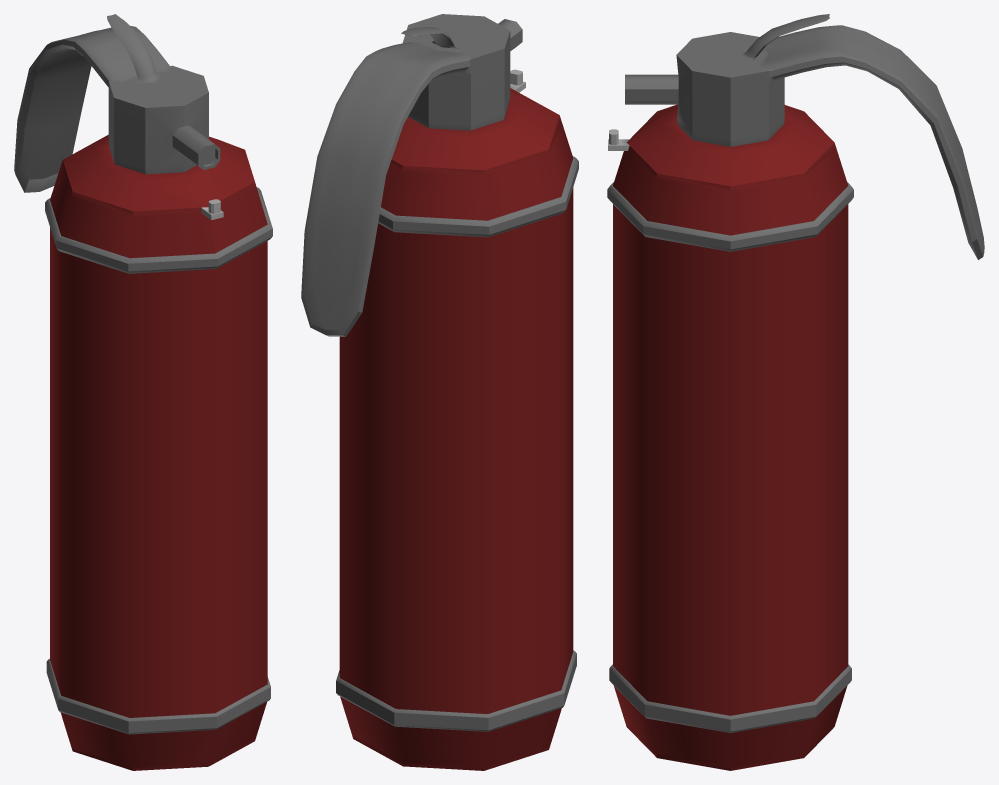
The model's file is SM_WeldingTool.fbx.
The picture shows the model from 3 angles, left to right: view 1: azimuth 30°, elevation 25°; view 2: azimuth 150°, elevation 25°; view 3: azimuth 270°, elevation 25°; orthographic projection. The views are drawn at different scales.
Parts seen in each view (by area): view 1: pCylinder3; view 2: pCylinder3; view 3: pCylinder3.
Part boxes in pixels (left/top/right/bottom): pCylinder3: left=14, top=14, right=272, bottom=770; pCylinder3: left=301, top=14, right=578, bottom=770; pCylinder3: left=607, top=14, right=984, bottom=770.
Size of the model in its own units: 2.85 by 9.07 by 4.37.
